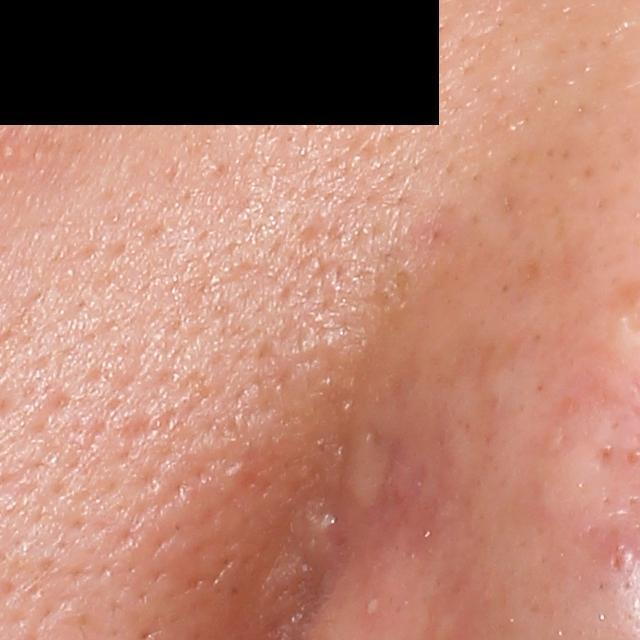hypertrophic_scar: (254, 496, 340, 638), (541, 403, 618, 524), (338, 414, 390, 508)
